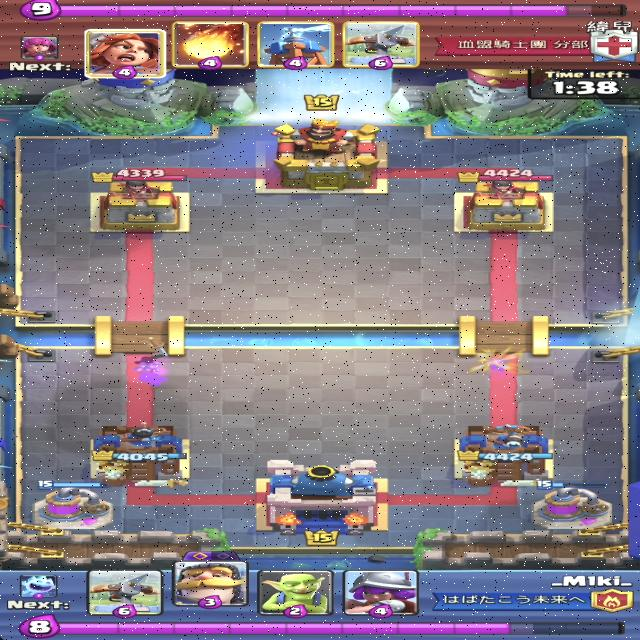Player-ElixirPump: (28, 481, 116, 532), (530, 480, 617, 531)
